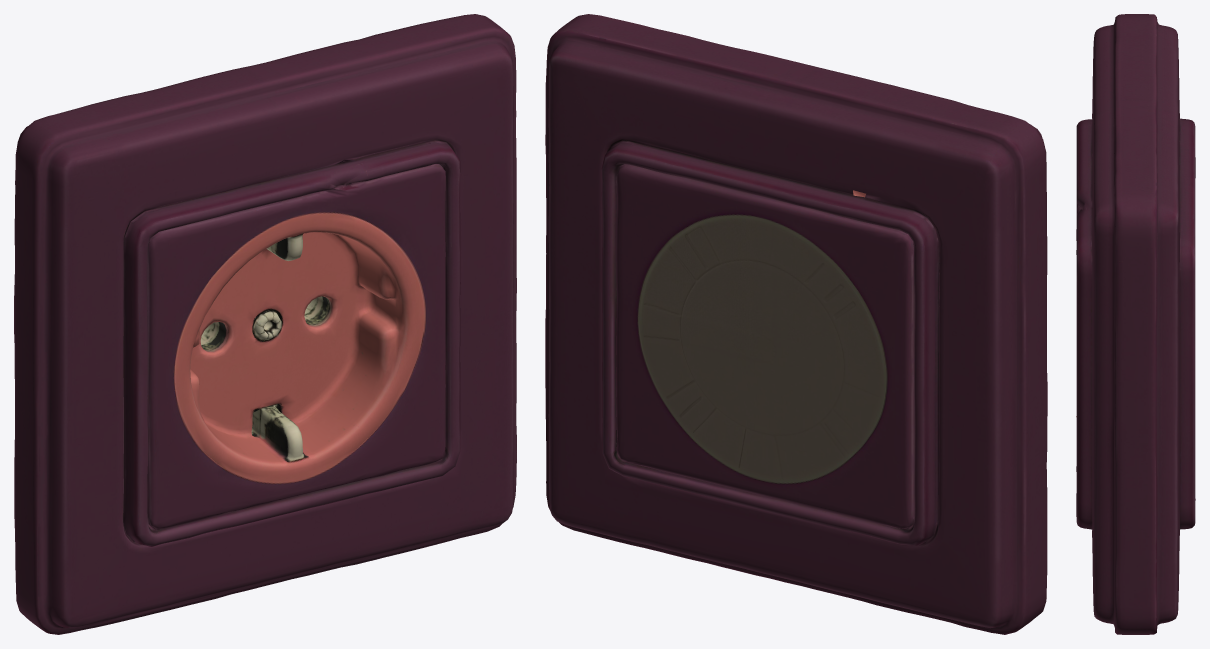
File: tripo_convert_9baca81b-cd18-44b4-80cc-2b9bf750830c.fbx
The picture shows the model from 3 angles, left to right: view 1: azimuth 30°, elevation 25°; view 2: azimuth 150°, elevation 25°; view 3: azimuth 270°, elevation 25°; orthographic projection. The views are drawn at different scales.
Visible parts, largest first — view 1: tripo_node_9baca81b; view 2: tripo_node_9baca81b; view 3: tripo_node_9baca81b.
Boxes of the visible parts, bbox=[...] form: tripo_node_9baca81b: bbox=[14, 14, 516, 634]; tripo_node_9baca81b: bbox=[545, 14, 1047, 634]; tripo_node_9baca81b: bbox=[1076, 14, 1195, 634].
Bounding box in the file's own units: 0.9808 × 0.9802 × 0.2416.
1 material, 1 textured.
